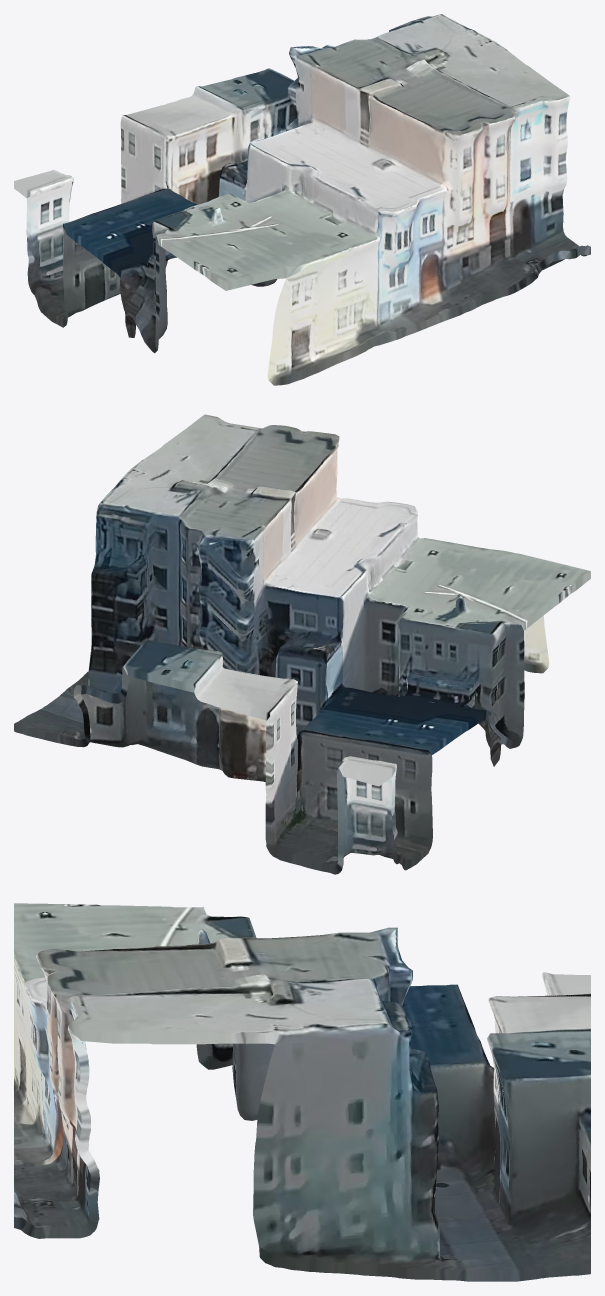
File: z20-167748-405196-h0-yup-uvflip-v3-world.glb
3 views of the same model, one above another, from view 1: azimuth 30°, elevation 25°; view 2: azimuth 150°, elevation 25°; view 3: azimuth 270°, elevation 25° (orthographic). The views are drawn at different scales.
Size of the model in its own units: 30.16 by 19.84 by 30.32.
1 material, 1 textured.
